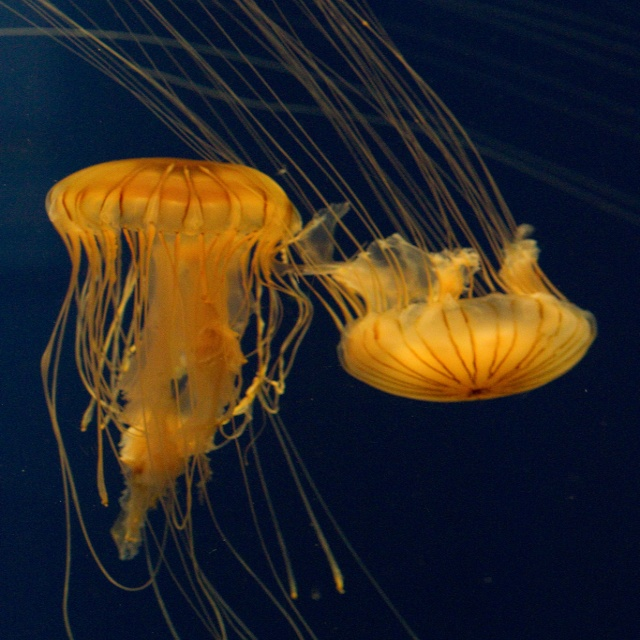Jellyfish: (0, 0, 602, 403), (35, 154, 416, 640)
